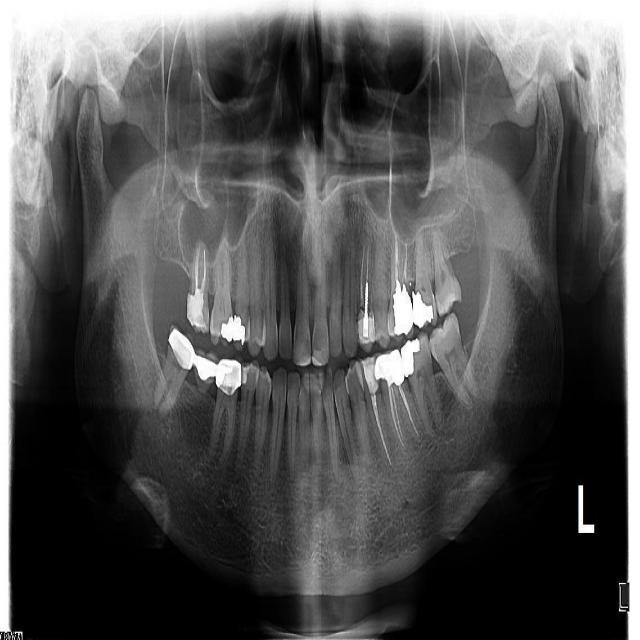71: (362, 281, 371, 338)
74: (369, 392, 392, 467), (397, 383, 419, 435), (386, 382, 403, 447), (390, 386, 403, 438), (200, 247, 208, 293), (403, 239, 409, 283), (360, 246, 364, 308), (394, 233, 399, 282), (195, 247, 199, 293), (366, 248, 368, 282)
NucleOSS Implant: (391, 279, 414, 335), (399, 338, 423, 377), (412, 288, 434, 329), (232, 314, 245, 346), (221, 316, 234, 342)
Straumann Implant: (184, 288, 207, 331), (357, 307, 376, 351), (361, 355, 381, 396), (242, 363, 251, 384)
Zimmer Implant: (162, 317, 204, 372), (189, 346, 224, 395), (371, 347, 406, 385), (214, 357, 244, 396)
